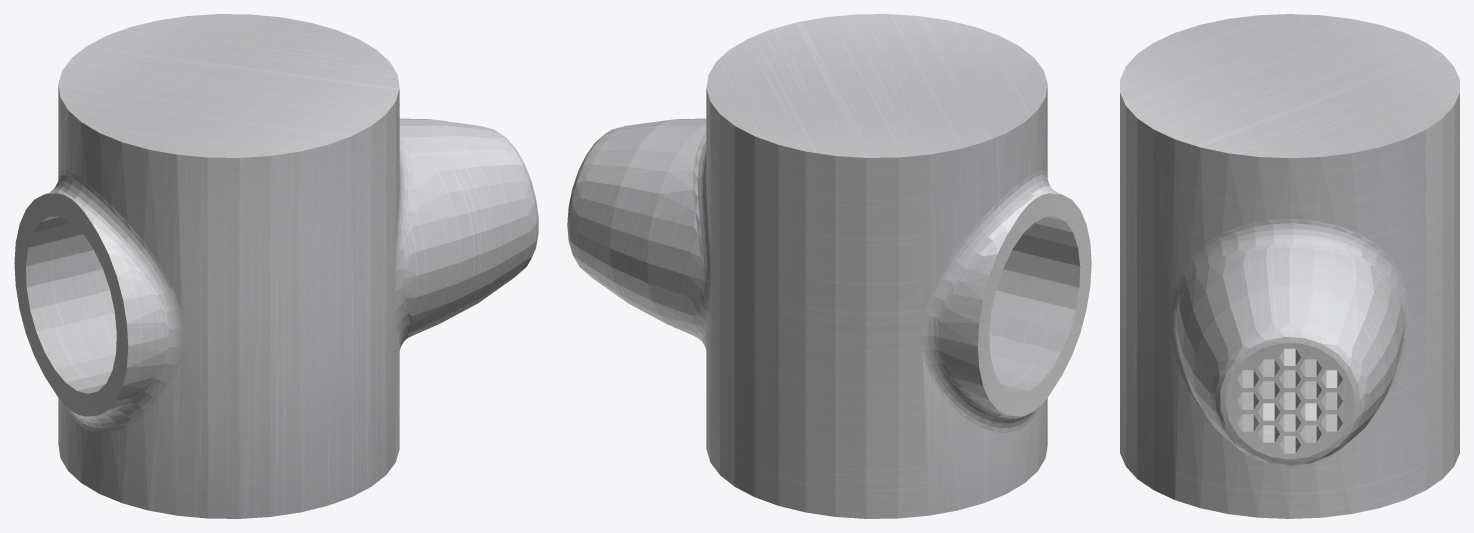
The model's file is end_effector_tex.dae.
3 renders of one model, left to right at view 1: azimuth 30°, elevation 25°; view 2: azimuth 150°, elevation 25°; view 3: azimuth 270°, elevation 25°, orthographic.
Parts seen in each view (by area): view 1: End_Effector; view 2: End_Effector; view 3: End_Effector.
Part boxes in pixels (<box>): End_Effector: <box>14,14,538,518</box>; End_Effector: <box>567,14,1091,518</box>; End_Effector: <box>1120,14,1459,518</box>.
Bounding box in the file's own units: 0.044 × 0.0299 × 0.035.
Materials: 1 (1 with a texture image).
